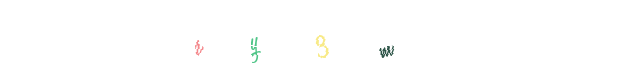3: (270, 0, 350, 80)
M: (346, 0, 426, 80)
R: (245, 0, 325, 80)
Y: (254, 0, 334, 80)
